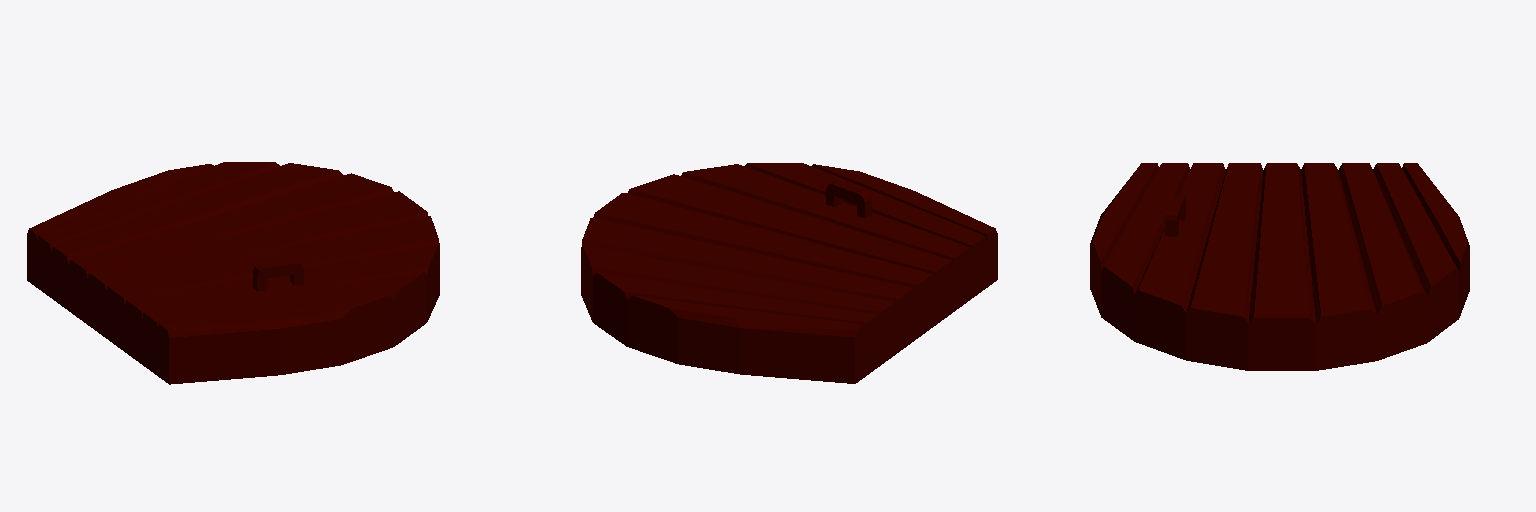
The picture shows the model from 3 angles: view 1: azimuth 30°, elevation 25°; view 2: azimuth 150°, elevation 25°; view 3: azimuth 270°, elevation 25°; orthographic projection.
Visible parts, largest first — view 1: Door_House_(Pintu_Rumah); view 2: Door_House_(Pintu_Rumah); view 3: Door_House_(Pintu_Rumah).
Boxes of the visible parts, box(x1,y1,x2,y2) form: Door_House_(Pintu_Rumah): box(27, 162, 439, 384); Door_House_(Pintu_Rumah): box(581, 163, 997, 383); Door_House_(Pintu_Rumah): box(1090, 163, 1469, 370).
Bounding box in the file's own units: 5.37 × 1.23 × 5.57.